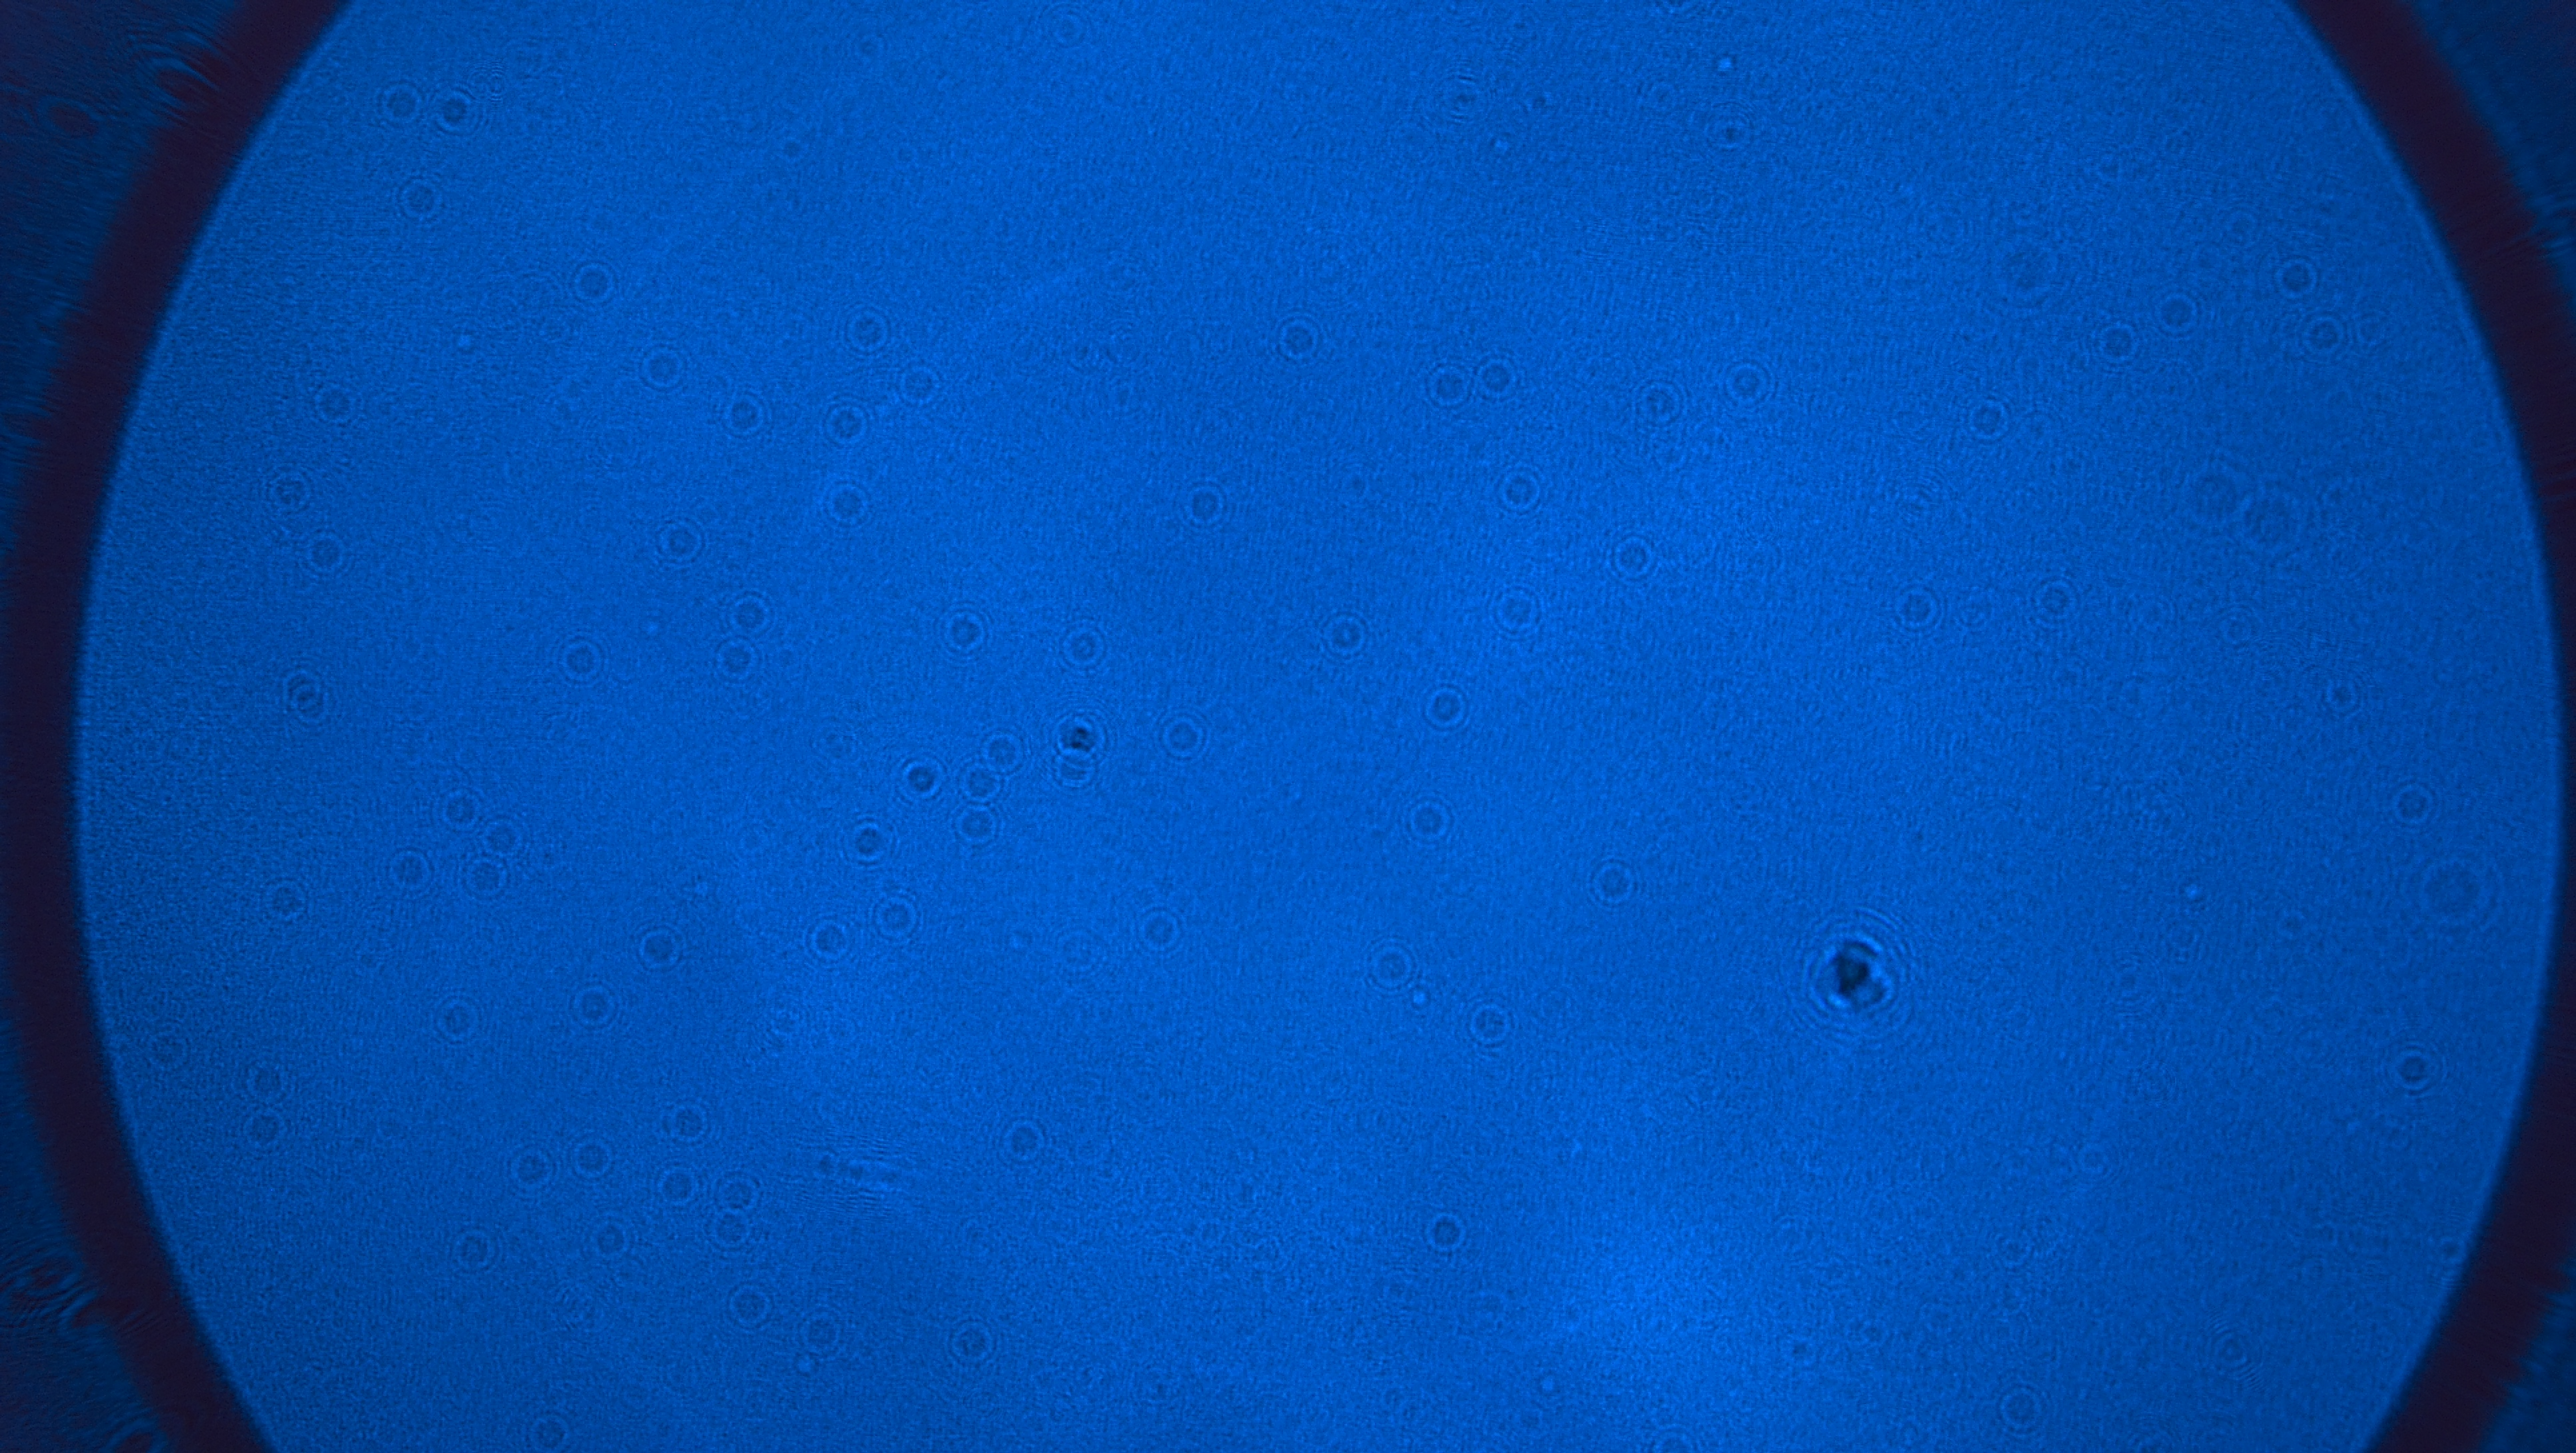bead: (1973, 1372, 2072, 1453), (1253, 303, 1341, 375), (2189, 1308, 2272, 1384), (2089, 945, 2171, 1018), (1162, 474, 1247, 542), (1483, 455, 1559, 526), (1594, 524, 1672, 593), (2015, 565, 2095, 632), (1039, 616, 1125, 676), (862, 883, 931, 957), (1479, 577, 1555, 644), (1451, 991, 1529, 1057), (1346, 934, 1426, 998), (832, 294, 904, 363), (1391, 786, 1467, 851), (1143, 704, 1221, 768), (437, 1212, 506, 1283), (1467, 345, 1537, 414), (2148, 276, 2219, 345), (1617, 365, 1691, 430), (423, 81, 499, 145), (1578, 851, 1649, 919), (373, 835, 441, 904), (260, 653, 336, 713), (386, 166, 455, 232), (812, 473, 881, 538), (423, 775, 492, 841), (616, 919, 690, 979), (2373, 1034, 2433, 1108), (2298, 310, 2367, 373), (809, 391, 879, 453), (253, 460, 324, 522), (568, 1209, 640, 1269), (451, 846, 515, 913), (885, 747, 952, 811), (1711, 350, 1782, 411), (545, 628, 617, 687), (1306, 607, 1380, 664), (2311, 664, 2374, 729), (929, 600, 996, 662), (423, 989, 490, 1051), (559, 975, 626, 1037), (559, 1127, 626, 1189), (938, 1310, 1005, 1372), (2086, 308, 2146, 377), (642, 513, 713, 572), (794, 910, 862, 970), (248, 873, 317, 931), (1951, 389, 2020, 448), (837, 811, 901, 873), (497, 1138, 557, 1203), (2376, 772, 2436, 837), (626, 340, 695, 396), (1410, 680, 1479, 736), (711, 588, 782, 642), (235, 1103, 297, 1165), (718, 1274, 782, 1334), (288, 683, 354, 740), (564, 257, 626, 315), (711, 386, 775, 442), (297, 524, 354, 588), (644, 1156, 709, 1211), (138, 1019, 198, 1078), (658, 1094, 720, 1150), (364, 78, 428, 133), (1044, 745, 1108, 800), (1976, 1219, 2040, 1274), (704, 635, 770, 688), (234, 1055, 299, 1108), (970, 720, 1035, 773), (2261, 251, 2327, 304), (472, 812, 540, 864), (798, 1301, 855, 1361), (1415, 1207, 1476, 1264), (304, 375, 366, 430), (704, 1168, 771, 1218), (1415, 356, 1474, 412), (1125, 901, 1187, 954), (701, 1209, 766, 1258), (948, 759, 1016, 807), (893, 357, 948, 416), (1886, 579, 1941, 635), (996, 1110, 1049, 1166), (517, 1405, 579, 1453), (948, 802, 1010, 850)
dust: (2387, 841, 2525, 947), (2157, 446, 2266, 543), (1971, 223, 2075, 315), (2235, 476, 2316, 572), (1039, 915, 1115, 986), (1693, 103, 1775, 159), (1318, 457, 1392, 515), (2204, 191, 2272, 255), (2204, 595, 2277, 651), (1023, 7, 1100, 58), (2265, 890, 2330, 947), (1626, 65, 1688, 122), (1054, 326, 1115, 381), (807, 711, 865, 766), (437, 317, 501, 366), (1426, 80, 1490, 127), (725, 814, 780, 869), (763, 122, 821, 173), (839, 25, 899, 74), (1628, 1419, 1716, 1453), (395, 678, 448, 727), (1769, 1329, 1829, 1372), (948, 1209, 998, 1260), (623, 607, 681, 650), (801, 1140, 846, 1189), (883, 136, 931, 179), (1652, 434, 1691, 478), (1635, 0, 1711, 21)
